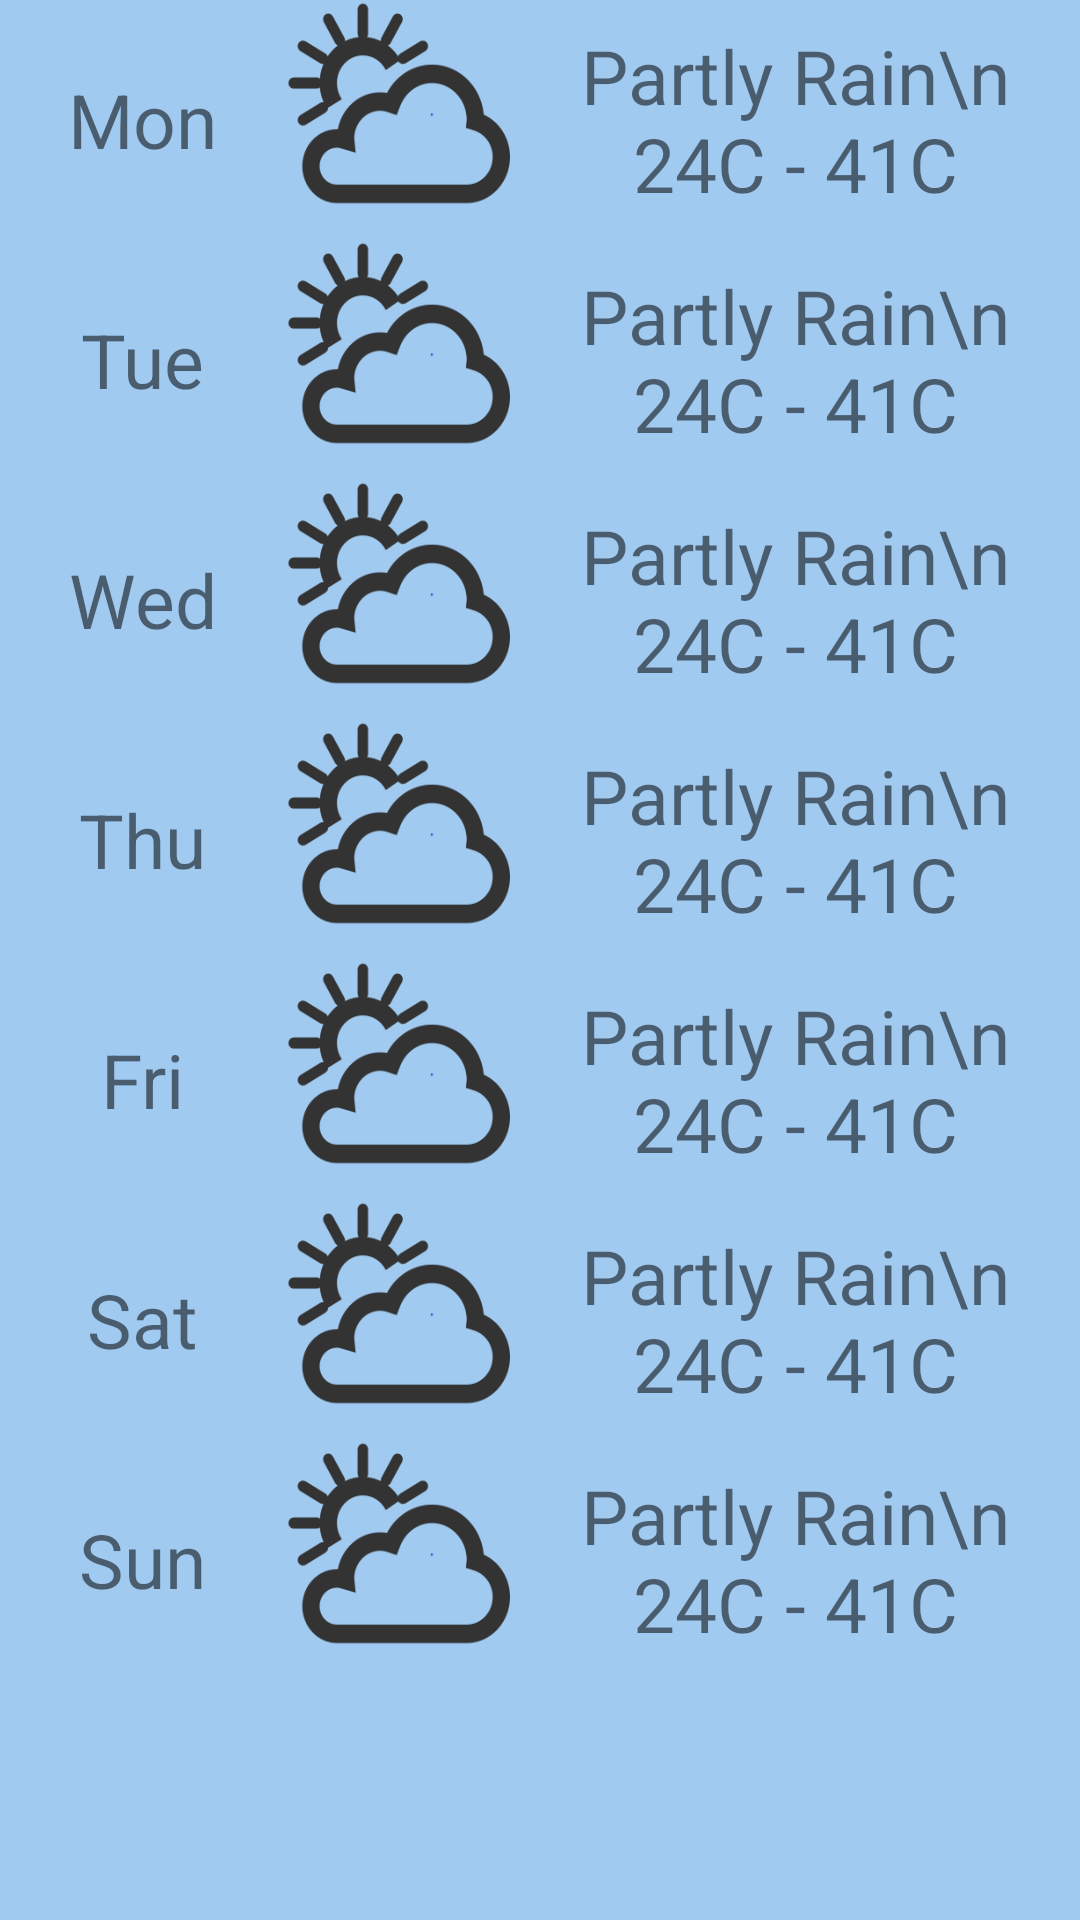

Screen size 1080w x 1920h. Icon name, then its center in pixels as [x,y]:
weather: [399,103], [399,343], [399,583], [399,823], [399,1063], [399,1303], [399,1543]
